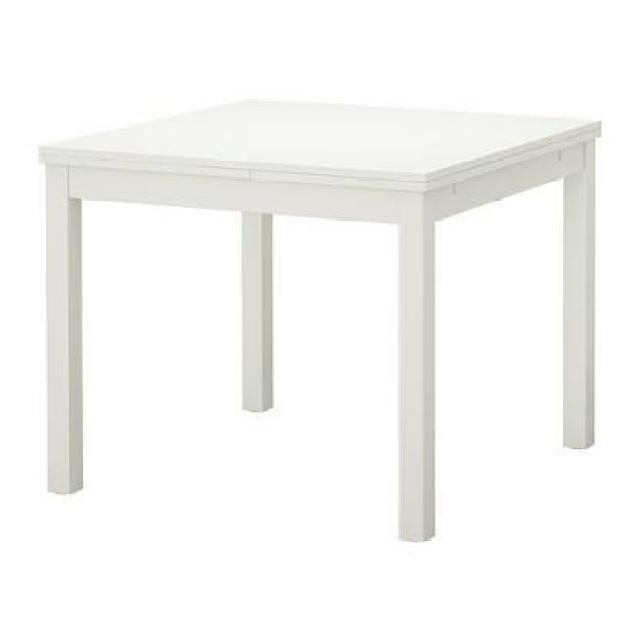tables: (37, 96, 601, 542)
